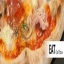pizza: (1, 1, 63, 64)
